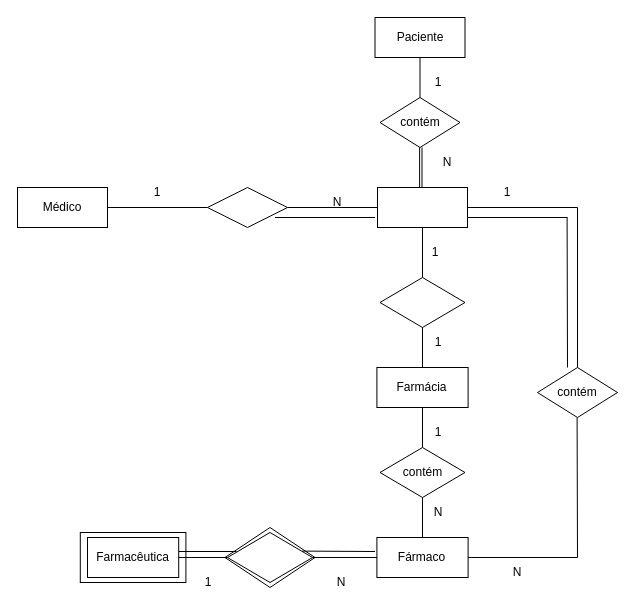
The diagram is 635 pixels wide and 615 high, and some of its shapes have lost their labels. Here are the shapes that lost their labels. From the top down, the centre of each, then its label:
[247,207]: emite
[422,207]: Prescrição
[422,302]: processada
[269,557]: fornece
